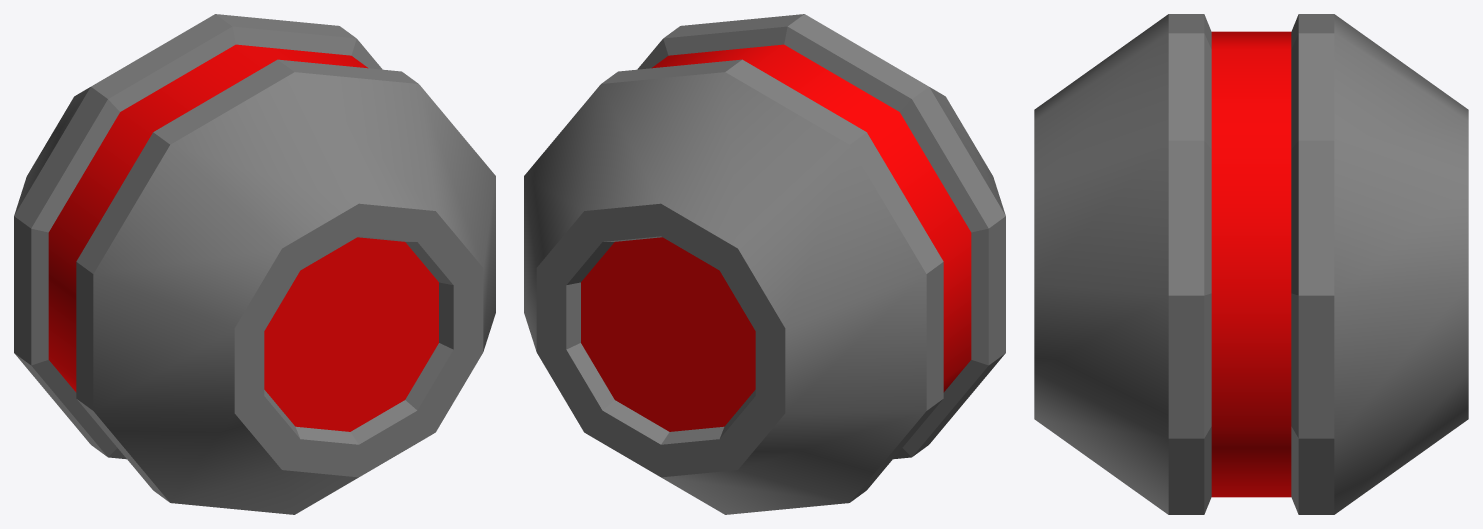
File: grenade.FBX
The picture shows the model from 3 angles, left to right: view 1: azimuth 30°, elevation 25°; view 2: azimuth 150°, elevation 25°; view 3: azimuth 270°, elevation 25°; orthographic projection. The views are drawn at different scales.
Visible parts, largest first — view 1: Sphere001; view 2: Sphere001; view 3: Sphere001.
Boxes of the visible parts, x1,y1,x2,y2 form: Sphere001: (14, 14, 495, 514); Sphere001: (524, 14, 1005, 514); Sphere001: (1034, 14, 1468, 514).
Bounding box in the file's own units: 5.34 × 5.62 × 4.78.
